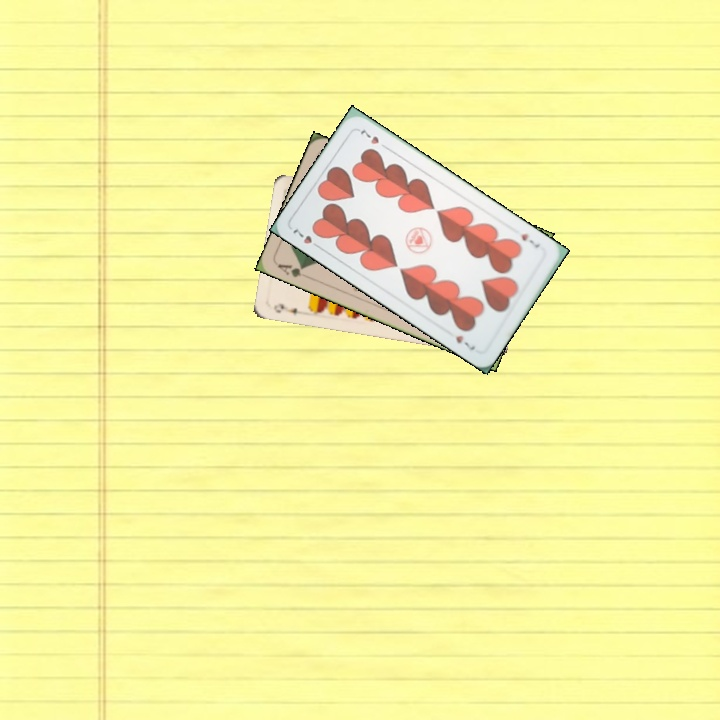E9: (270, 299, 300, 316)
GA: (274, 260, 307, 280)
H7: (289, 225, 324, 252), (517, 229, 543, 251)
